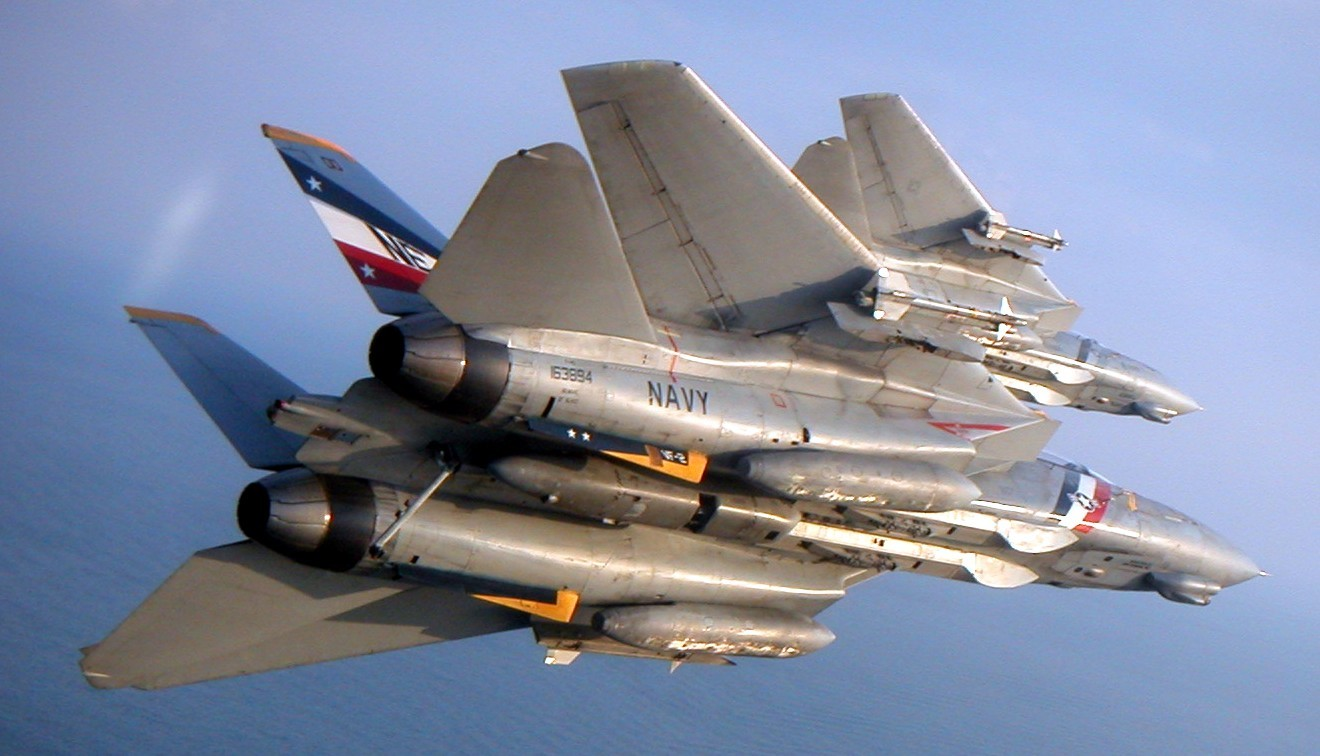F14: (78, 58, 1274, 693), (790, 91, 1209, 425)
